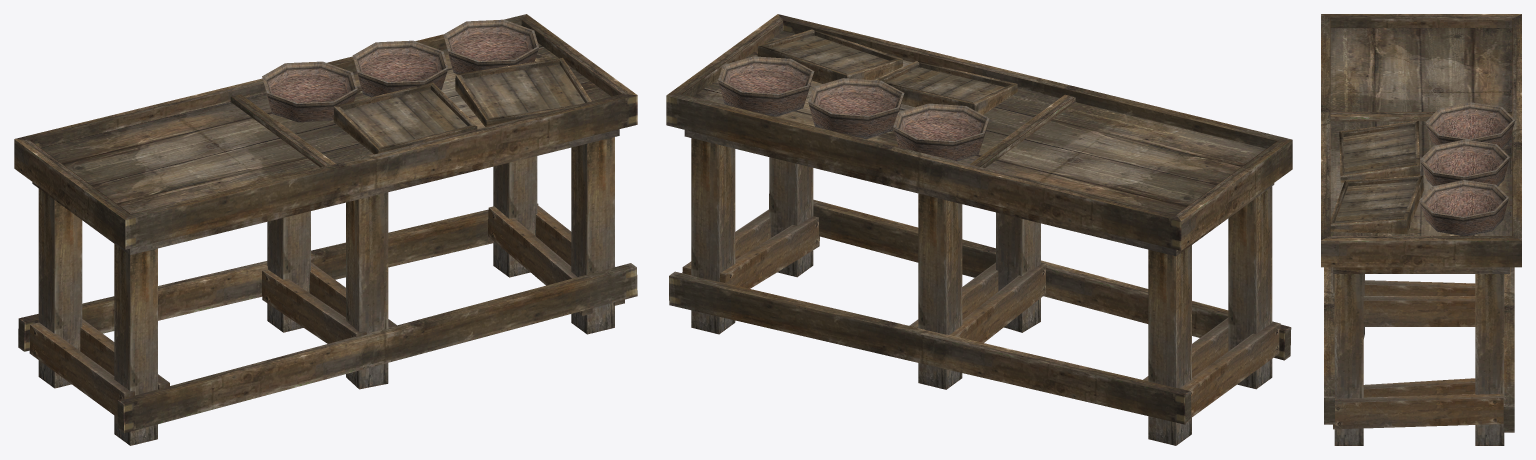
File: shop4.fbx
3 views of the same model, side by side, from view 1: azimuth 30°, elevation 25°; view 2: azimuth 150°, elevation 25°; view 3: azimuth 270°, elevation 25° (orthographic). The views are drawn at different scales.
Visible parts, largest first — view 1: LV_M5_Port_FruitShop02A_SM_KWY; view 2: LV_M5_Port_FruitShop02A_SM_KWY; view 3: LV_M5_Port_FruitShop02A_SM_KWY.
Part boxes in pixels (<box>): LV_M5_Port_FruitShop02A_SM_KWY: <box>14,14,637,445</box>; LV_M5_Port_FruitShop02A_SM_KWY: <box>666,14,1292,445</box>; LV_M5_Port_FruitShop02A_SM_KWY: <box>1321,14,1521,445</box>.
Size of the model in its own units: 0.4457 by 0.2066 by 0.1666.
1 material, 1 textured.
